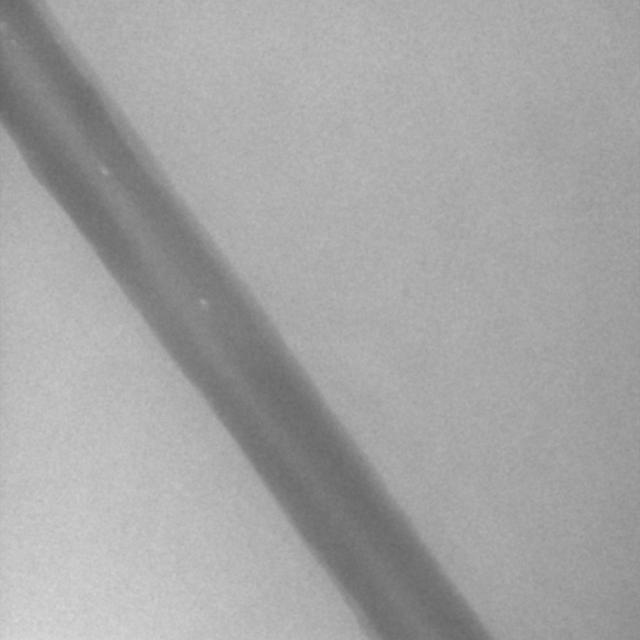air hole: (198, 296, 209, 309), (98, 165, 109, 177)
